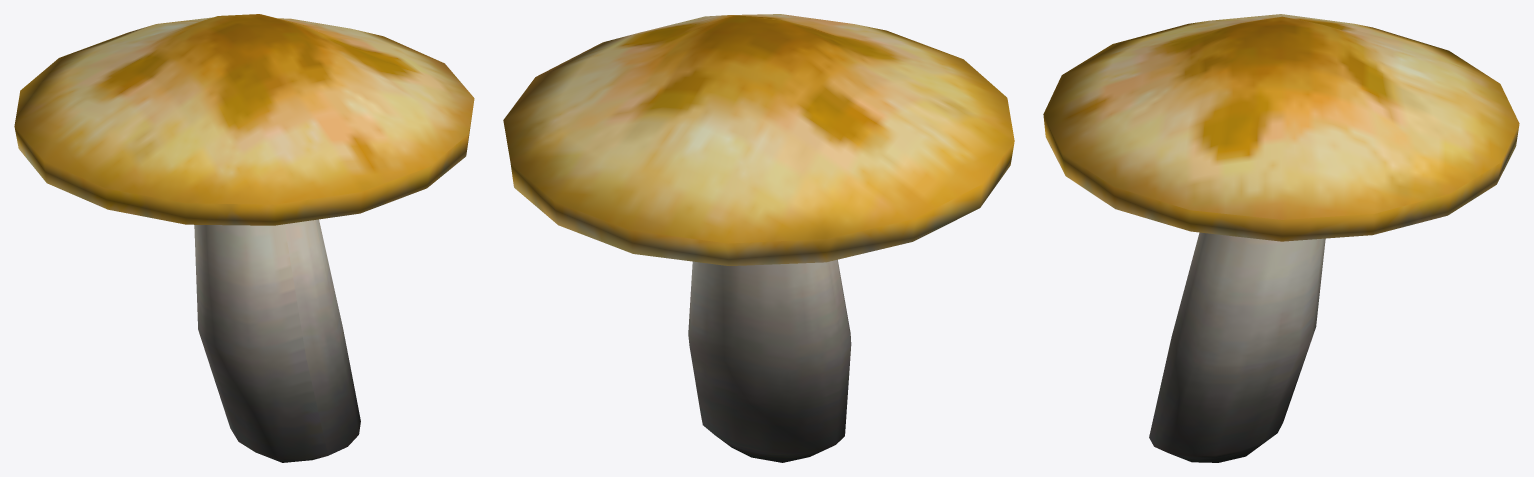
Rendered from INST_TROLLHOLE_SHROOMC3.fbx.
The picture shows the model from 3 angles, left to right: view 1: azimuth 30°, elevation 25°; view 2: azimuth 150°, elevation 25°; view 3: azimuth 270°, elevation 25°; orthographic projection. The views are drawn at different scales.
Visible parts, largest first — view 1: INST_TROLLHOLE_SHROOMC3; view 2: INST_TROLLHOLE_SHROOMC3; view 3: INST_TROLLHOLE_SHROOMC3.
Part boxes in pixels (<box>): INST_TROLLHOLE_SHROOMC3: <box>14,14,474,462</box>; INST_TROLLHOLE_SHROOMC3: <box>503,14,1014,462</box>; INST_TROLLHOLE_SHROOMC3: <box>1043,14,1519,462</box>.
Bounding box in the file's own units: 21938 × 21084 × 21932.
1 material, 1 textured.
